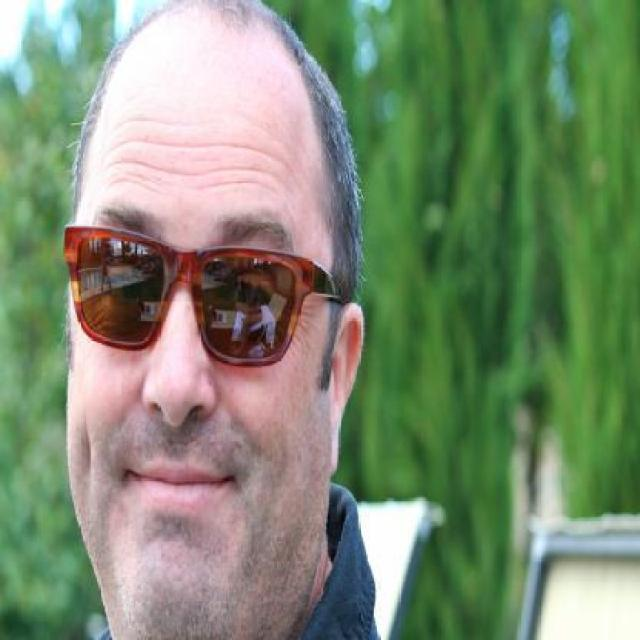face_nomask: (57, 214, 326, 532)
glasses: (59, 212, 344, 372)
head_nohelmet: (87, 0, 356, 132)
